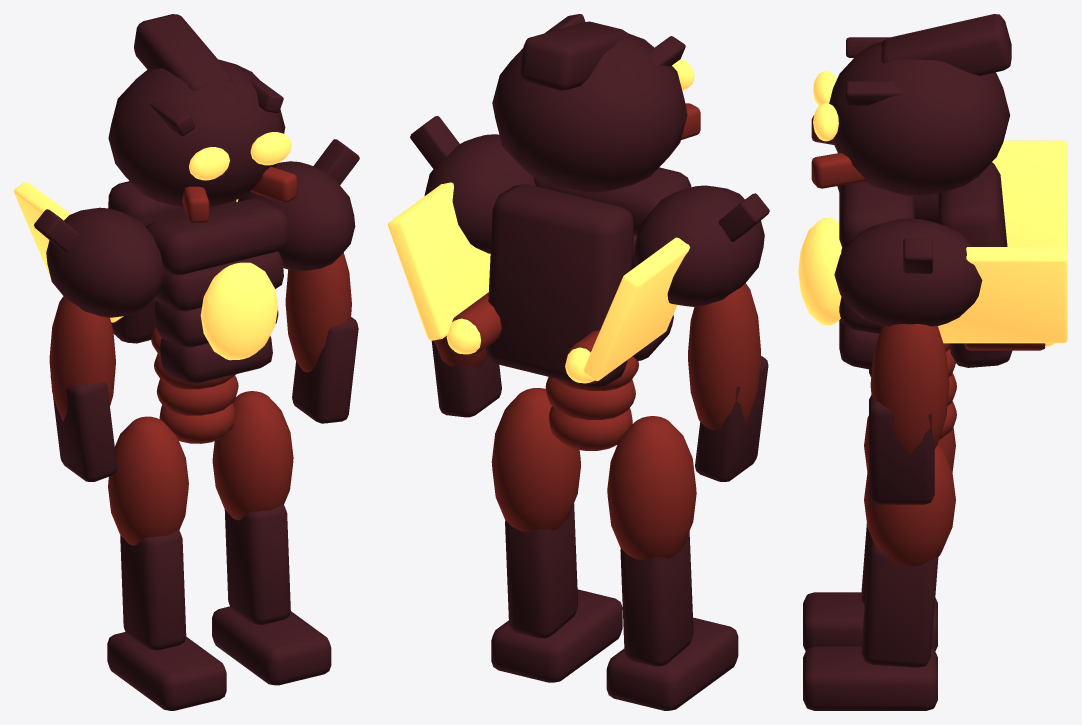
File: Pathfinder_EmberBrood_Armor.fbx
3 views of the same model, side by side, from view 1: azimuth 30°, elevation 25°; view 2: azimuth 150°, elevation 25°; view 3: azimuth 270°, elevation 25° (orthographic). The views are drawn at different scales.
Visible parts, largest first — view 1: Cranium, CarapaceShoulder_L, ThighMuscle_L, ThighMuscle_R, ThoraxPlate_00, ReverseShin_R, ReverseShin_L, CarapaceShoulder_R, ClawedFoot_L, ClawedFoot_R, MoltenHeart, UpperLimb_L (+20 smaller); view 2: DorsalCarapace, Cranium, ThighMuscle_L, CarapaceShoulder_L, ThighMuscle_R, AeroFin_1.001, UpperLimb_L, ReverseShin_L, ReverseShin_R, AeroFin_-1.001, ClawedFoot_L, ClawedFoot_R (+15 smaller); view 3: Cranium, CarapaceShoulder_R, AeroFin_1.001, UpperLimb_R, ReverseShin_R, ClawedFoot_R, AeroFin_-1.001, ThighMuscle_R, Crown, ClawGuard_R, DorsalCarapace, MoltenHeart (+13 smaller).
Boxes of the visible parts, left/top/right/bottom form: Cranium: left=108, top=59, right=285, bottom=207; CarapaceShoulder_L: left=46, top=207, right=164, bottom=317; ThighMuscle_L: left=108, top=416, right=188, bottom=545; ThighMuscle_R: left=212, top=391, right=293, bottom=520; ThoraxPlate_00: left=146, top=198, right=289, bottom=275; ReverseShin_R: left=224, top=504, right=290, bottom=624; ReverseShin_L: left=120, top=529, right=186, bottom=650; CarapaceShoulder_R: left=238, top=161, right=355, bottom=271; ClawedFoot_L: left=107, top=632, right=226, bottom=710; ClawedFoot_R: left=212, top=606, right=331, bottom=685; MoltenHeart: left=200, top=262, right=278, bottom=360; UpperLimb_L: left=49, top=296, right=115, bottom=421; DorsalCarapace: left=486, top=184, right=633, bottom=387; Cranium: left=492, top=34, right=687, bottom=193; ThighMuscle_L: left=607, top=416, right=696, bottom=559; CarapaceShoulder_L: left=634, top=185, right=764, bottom=306; ThighMuscle_R: left=491, top=388, right=580, bottom=531; AeroFin_1.001: left=388, top=182, right=490, bottom=340; UpperLimb_L: left=688, top=283, right=760, bottom=429; ReverseShin_L: left=620, top=531, right=693, bottom=666; ReverseShin_R: left=505, top=503, right=578, bottom=638; AeroFin_-1.001: left=583, top=237, right=689, bottom=380; ClawedFoot_L: left=606, top=617, right=738, bottom=710; ClawedFoot_R: left=491, top=589, right=622, bottom=682; Cranium: left=829, top=41, right=1010, bottom=196; CarapaceShoulder_R: left=834, top=218, right=982, bottom=326; AeroFin_1.001: left=938, top=247, right=1067, bottom=343; UpperLimb_R: left=870, top=324, right=949, bottom=454; ReverseShin_R: left=861, top=538, right=938, bottom=667; ClawedFoot_R: left=803, top=646, right=937, bottom=710; AeroFin_-1.001: left=992, top=140, right=1067, bottom=250; ThighMuscle_R: left=864, top=443, right=955, bottom=567; Crown: left=881, top=14, right=1011, bottom=75; ClawGuard_R: left=869, top=395, right=934, bottom=504; DorsalCarapace: left=938, top=162, right=1012, bottom=367; MoltenHeart: left=798, top=217, right=841, bottom=325.
Bounding box in the file's own units: 234 × 436 × 164.
